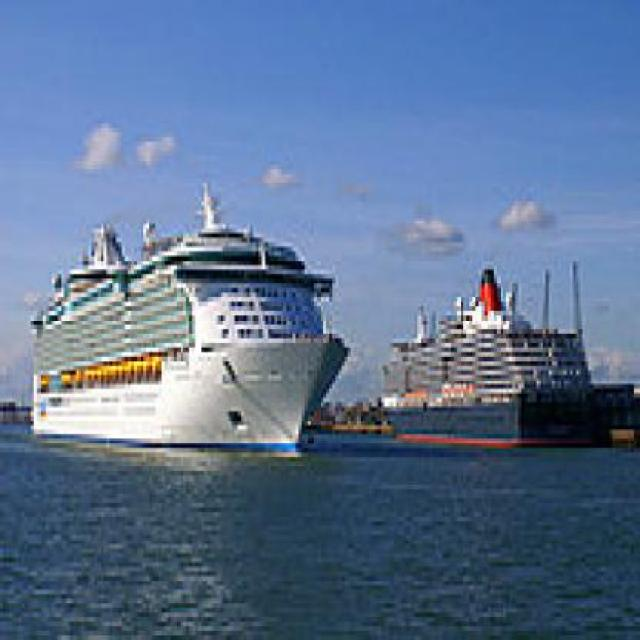cruise: (17, 166, 368, 472), (376, 252, 630, 476)
